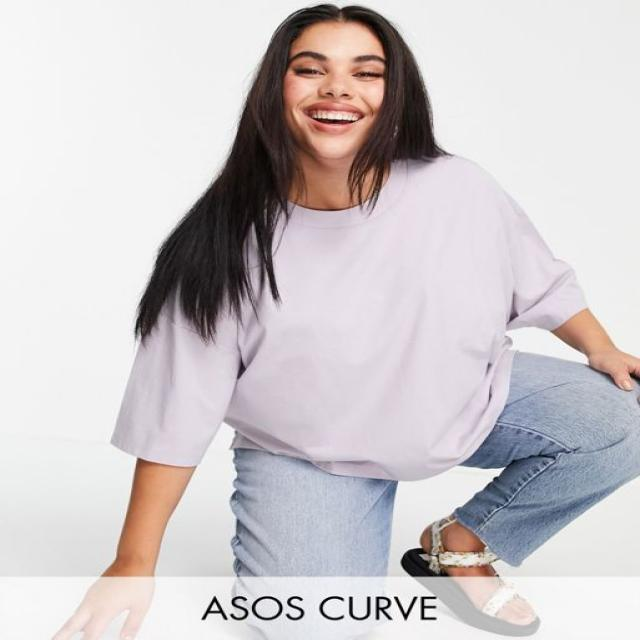tshirt: (107, 150, 589, 482)
